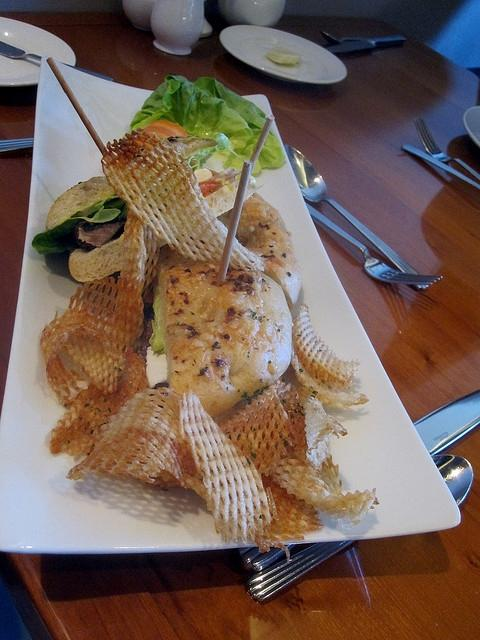lettuce: (123, 75, 284, 174), (32, 196, 125, 254)
